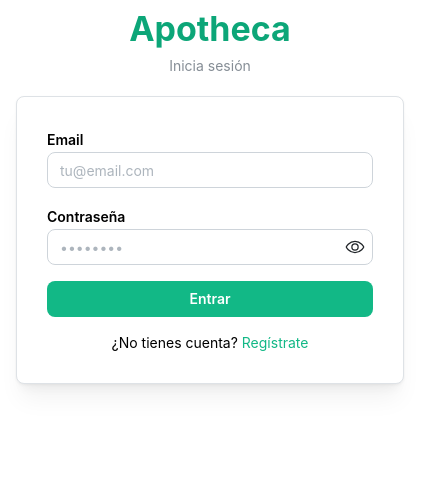
Test case: AuthPage › switches back to login from register
Click the link "Regístrate" at (275, 343), box 242,334 -> 308,351
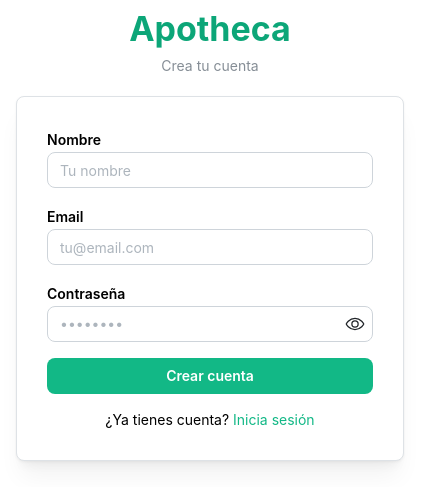
Click the link "Inicia sesión" at (274, 419), box 233,411 -> 315,428
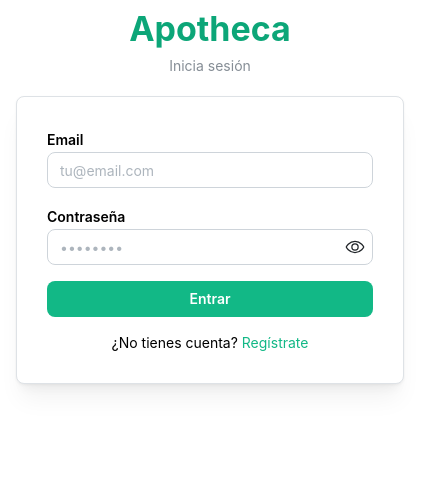
expect the field with placeholder "Tu nombre" is not shown: met
expect the button "Entrar" is shown: met, box 47,281 -> 373,317
